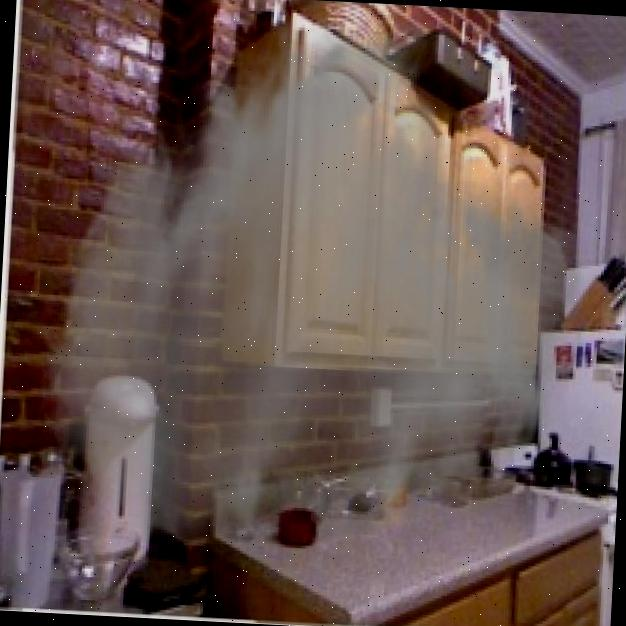smoke: (26, 0, 605, 571)
